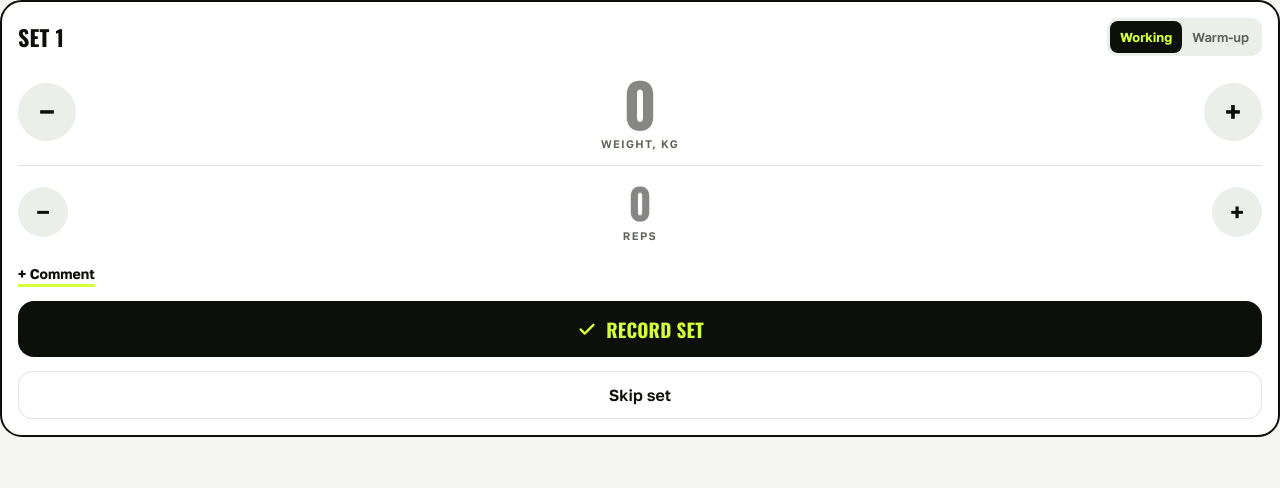
Test case: SetEntry › blocks a completed set without repetitions
Type "40" into the field labelled "Weight, kg".
click(640, 102); type("40")  # box 84,72 -> 1196,132
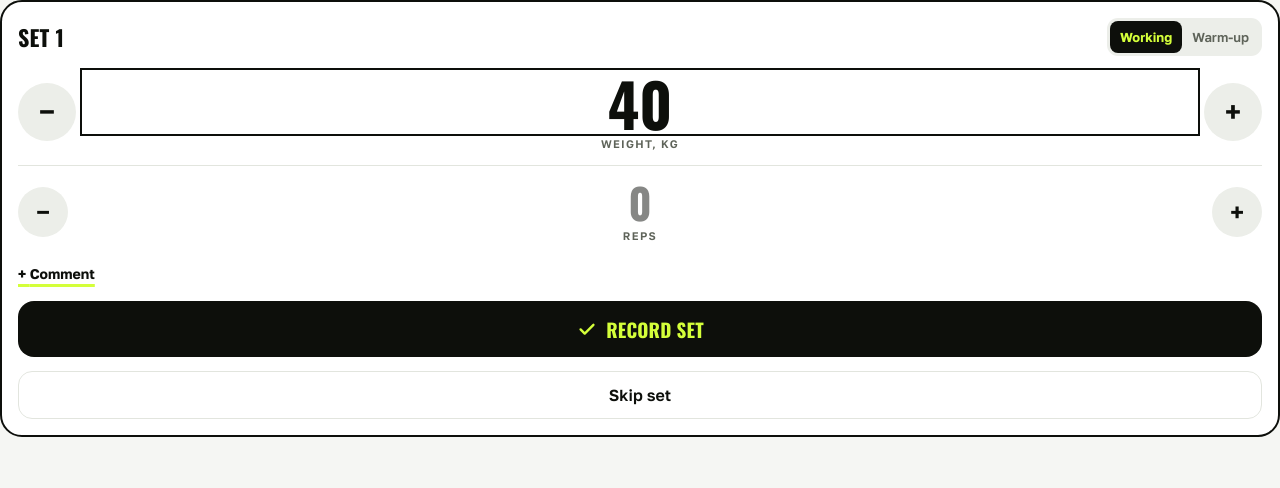
Click the button "Record set".
click(640, 329)  # box 18,301 -> 1262,357
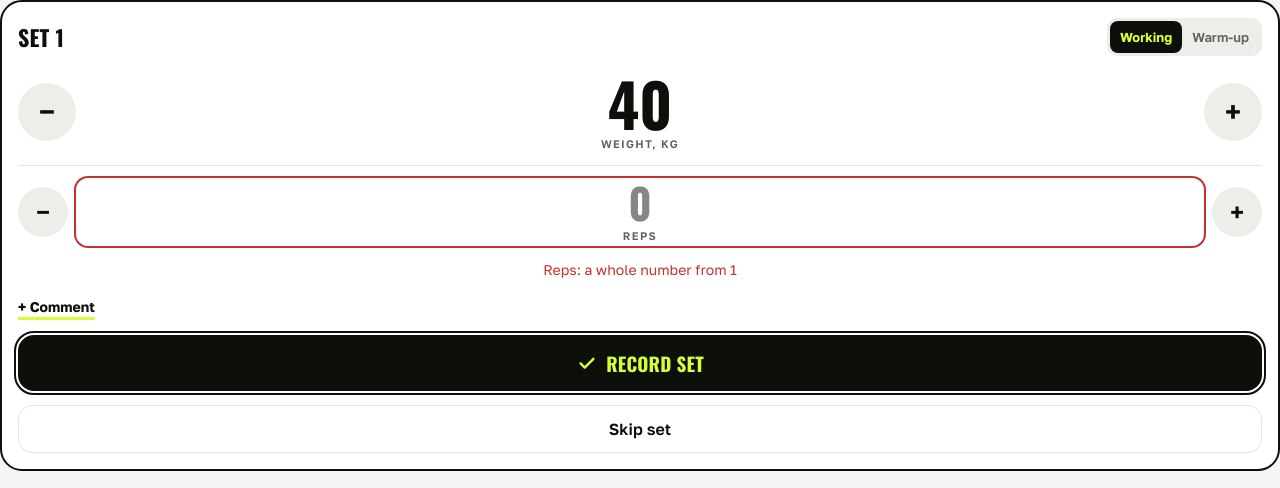
Check: the message shows "Reps", box 543,261 -> 737,278
